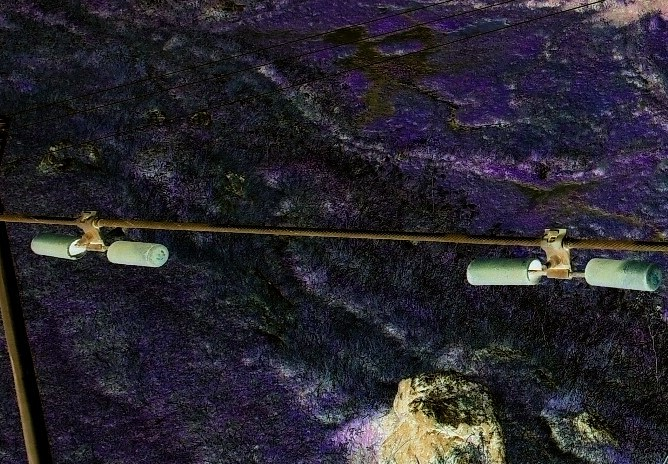Shockproof hammer: (462, 225, 668, 298), (28, 210, 172, 269)
